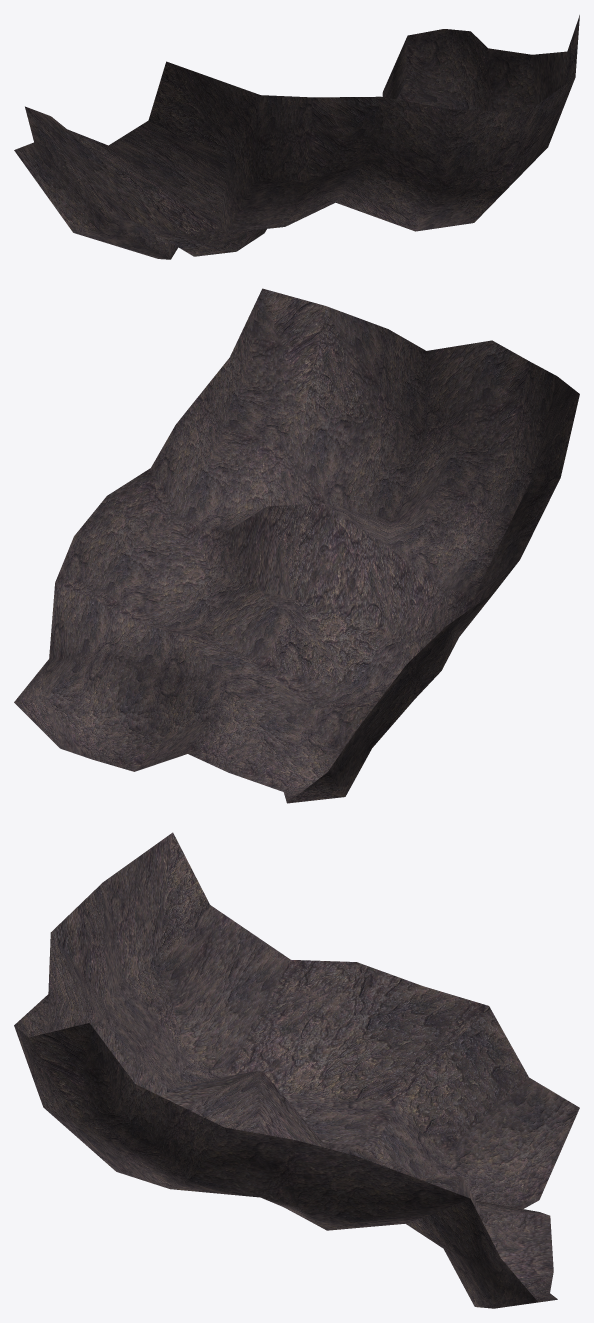
The model's file is cliff_wall_up.fbx.
3 renders of one model, top to bottom at view 1: azimuth 30°, elevation 25°; view 2: azimuth 150°, elevation 25°; view 3: azimuth 270°, elevation 25°, orthographic. The views are drawn at different scales.
Parts seen in each view (by area): view 1: cliff_wall_up; view 2: cliff_wall_up; view 3: cliff_wall_up.
Boxes of the visible parts, x1,y1,x2,y2 form: cliff_wall_up: [14, 15, 579, 259]; cliff_wall_up: [14, 288, 579, 803]; cliff_wall_up: [14, 832, 579, 1308].
Size of the model in its own units: 236 by 183 by 288.
